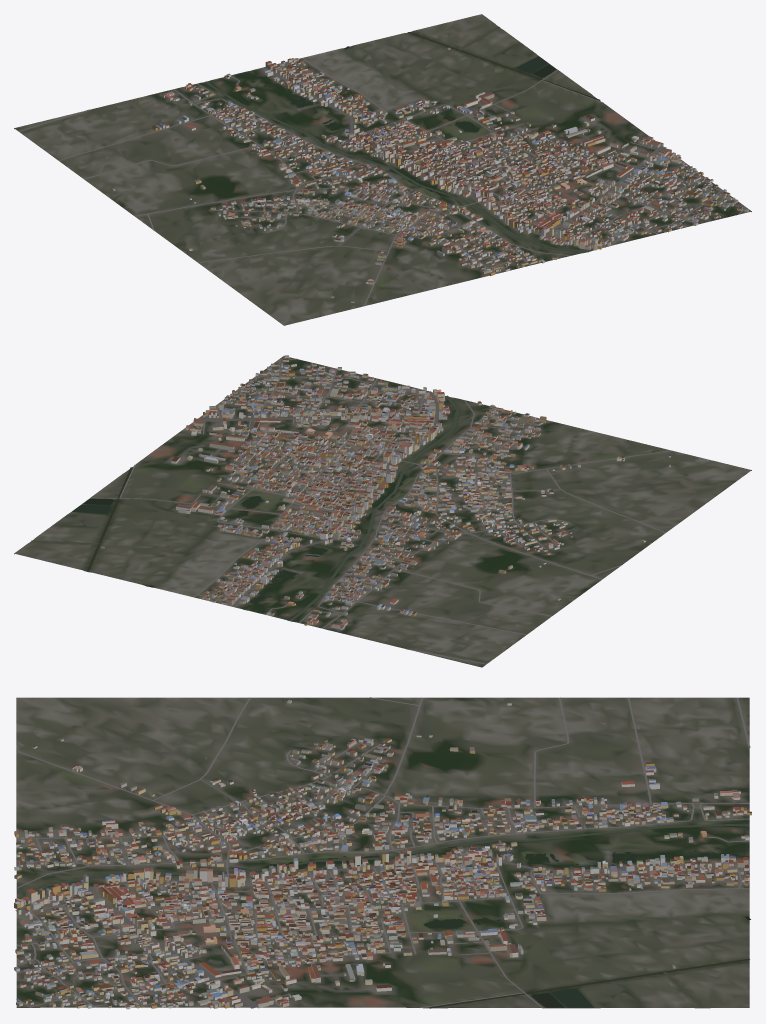
3 views of the same model, one above another, from view 1: azimuth 30°, elevation 25°; view 2: azimuth 150°, elevation 25°; view 3: azimuth 270°, elevation 25° (orthographic). The views are drawn at different scales.
Visible parts, largest first — view 1: ground, buildings, roads, water; view 2: ground, buildings, roads, water; view 3: ground, buildings, roads, water.
Part boxes in pixels (<box>): ground: <box>14,14,751,325</box>; buildings: <box>112,47,748,302</box>; roads: <box>18,58,746,306</box>; water: <box>205,26,600,252</box>; ground: <box>14,356,751,667</box>; buildings: <box>101,355,670,630</box>; roads: <box>90,358,671,664</box>; water: <box>31,395,459,621</box>; ground: <box>16,697,749,1008</box>; buildings: <box>14,700,751,1009</box>; roads: <box>15,697,750,1008</box>; water: <box>18,824,750,1008</box>.
Size of the model in its own units: 1412 by 30.52 by 1411.
